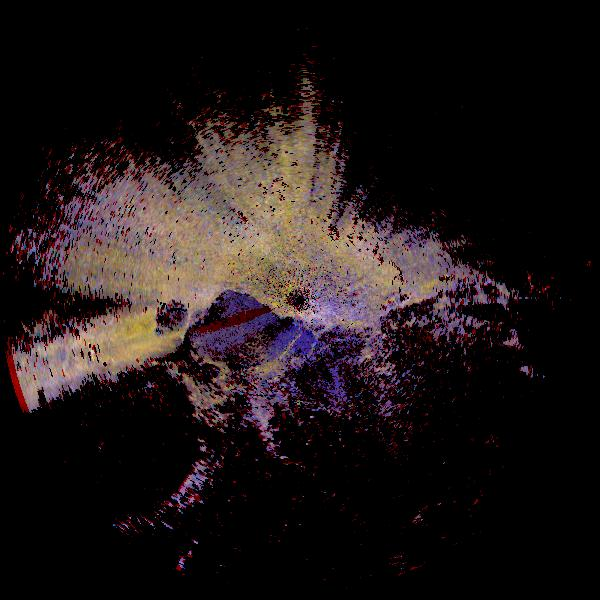roost: (1, 307, 259, 565)
